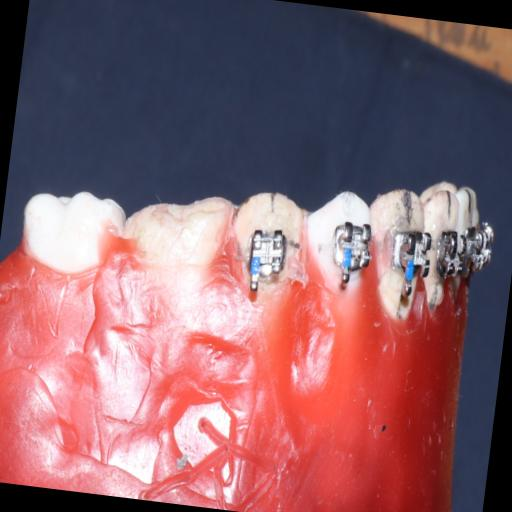incorrect_brace: (243, 226, 290, 282)
